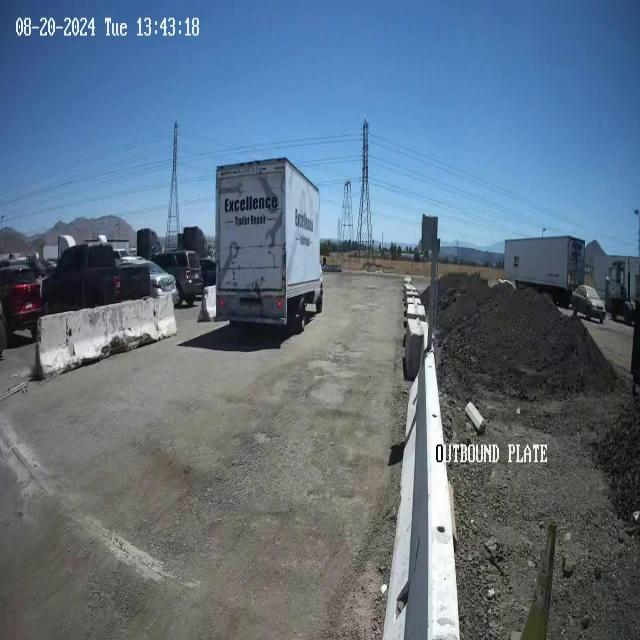TRUCK_IN: (214, 156, 323, 329)
